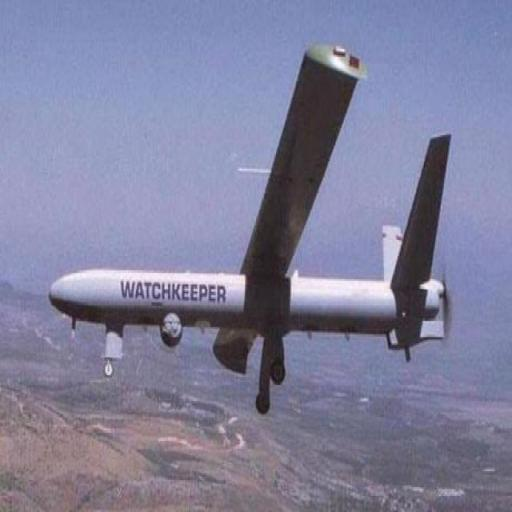uav: (44, 39, 470, 411)
